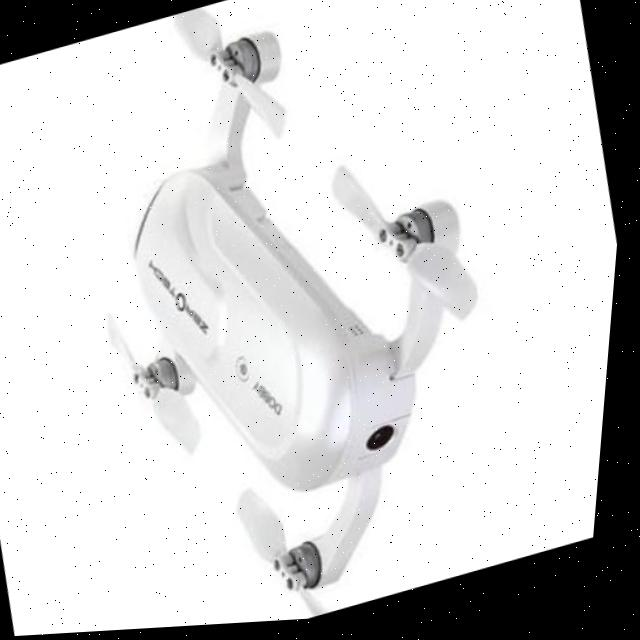drones: (9, 0, 571, 638)
